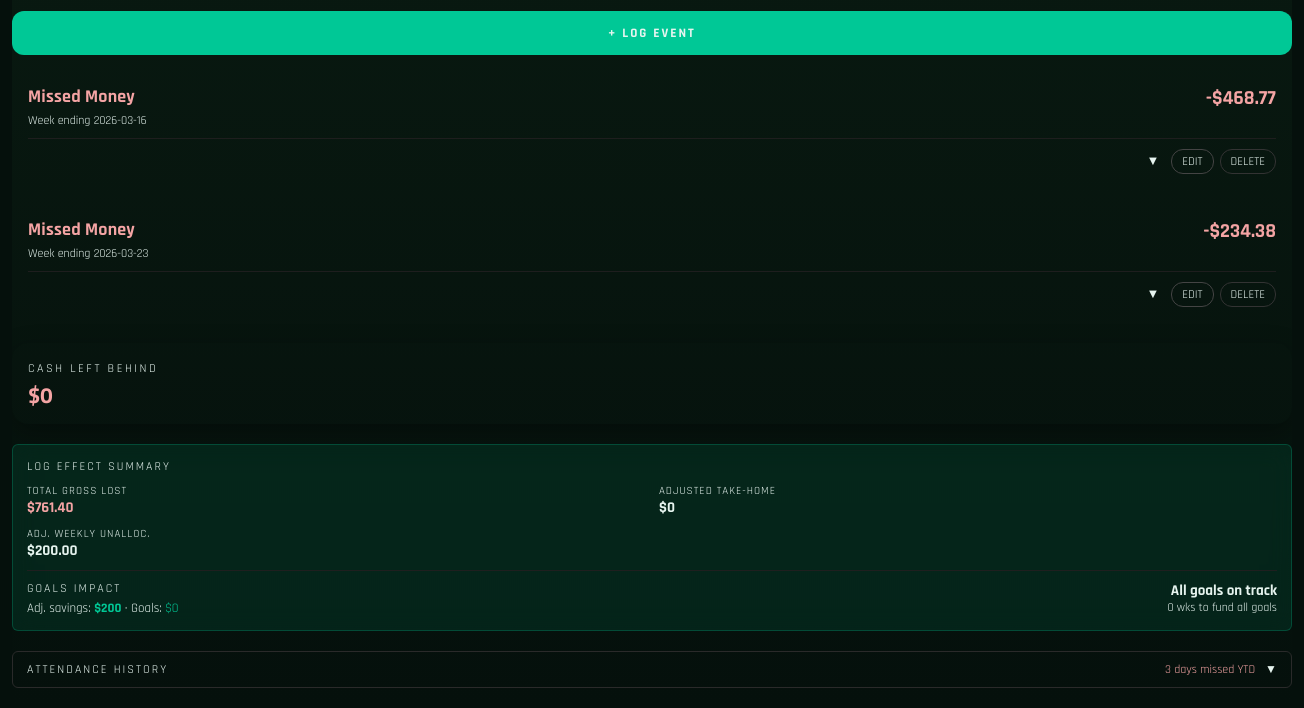
Test: Attendance History — day pattern › shows the correct count per day across multiple events
This screenshot has width=1304, height=708.
(page scrolled)
Click the button "Attendance History 3 days missed YTD ▼" at point(98, 669), box [12,651,1292,688]
(page scrolled)
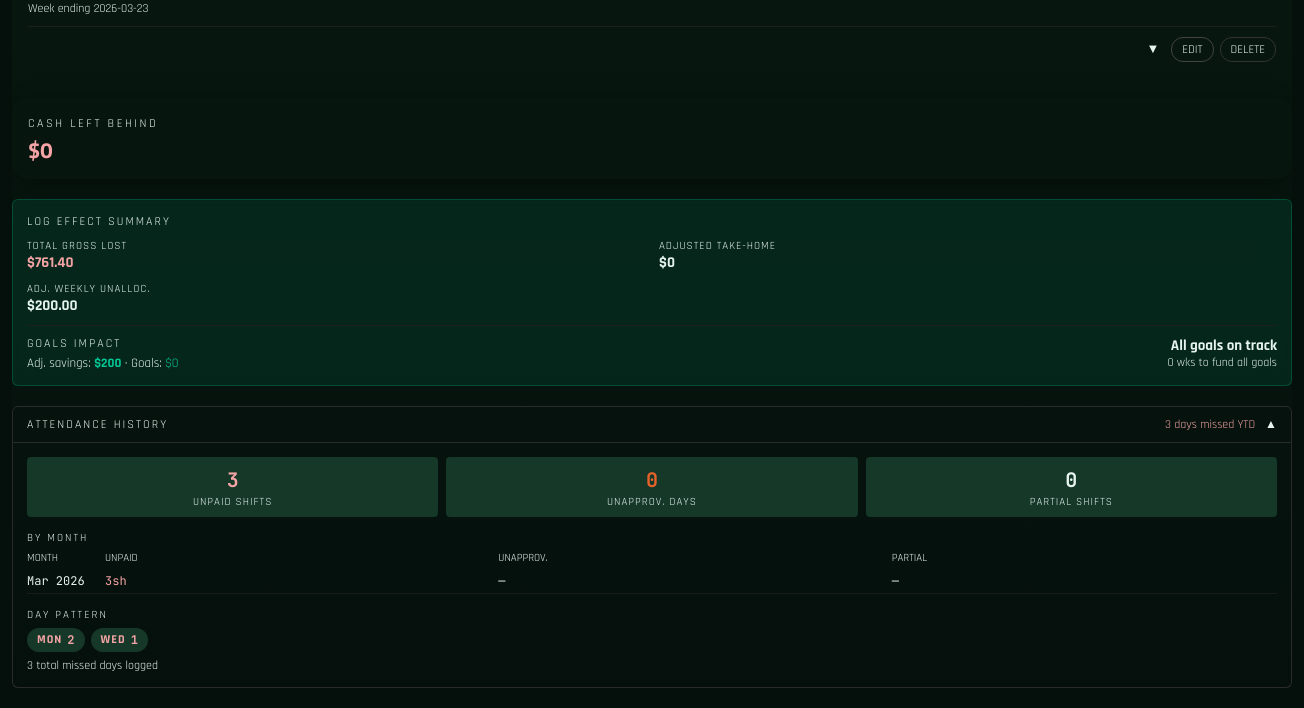
Result: the text "2" is shown at [67,632,75,648]
